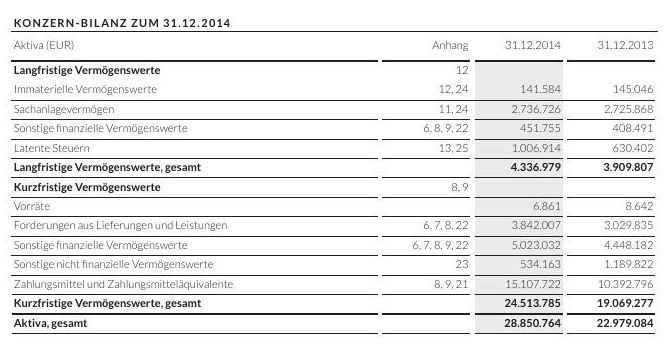table: (0, 0, 666, 345)
